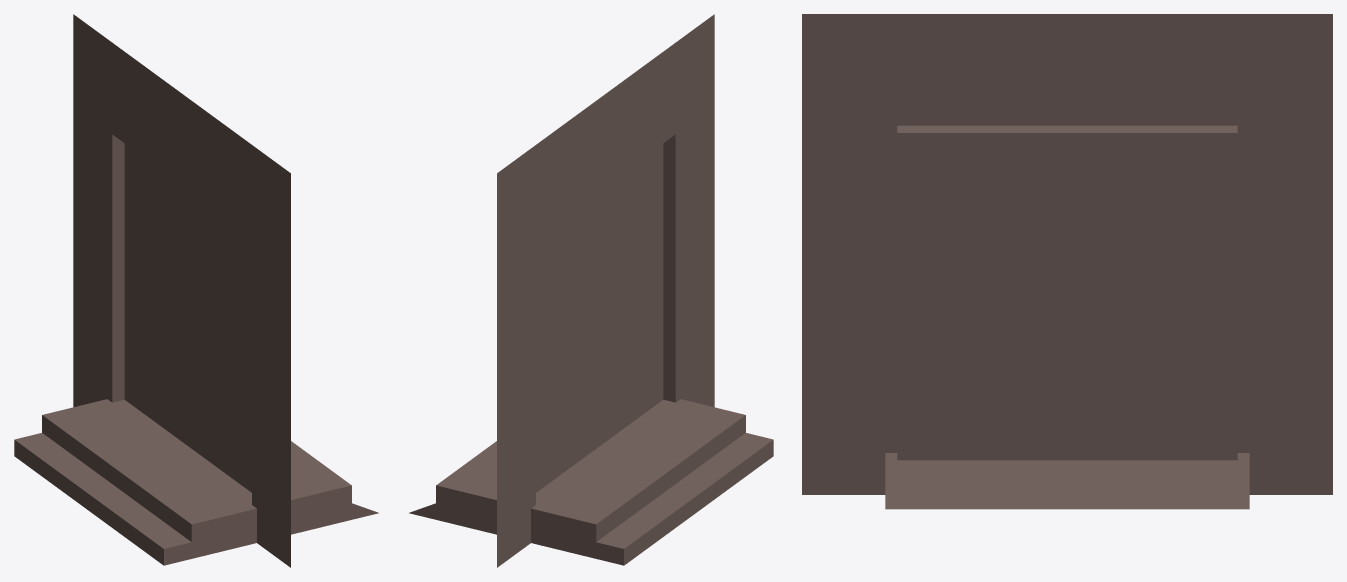
Rendered from Building_door_03.fbx.
3 views of the same model, side by side, from view 1: azimuth 30°, elevation 25°; view 2: azimuth 150°, elevation 25°; view 3: azimuth 270°, elevation 25° (orthographic). The views are drawn at different scales.
Visible parts, largest first — view 1: Building_door_03; view 2: Building_door_03; view 3: Building_door_03.
Part boxes in pixels (x1,y1,x2,y2): Building_door_03: (14,14,378,567); Building_door_03: (409,14,773,567); Building_door_03: (802,14,1332,509).
Size of the model in its own units: 1.72 by 3 by 3.
